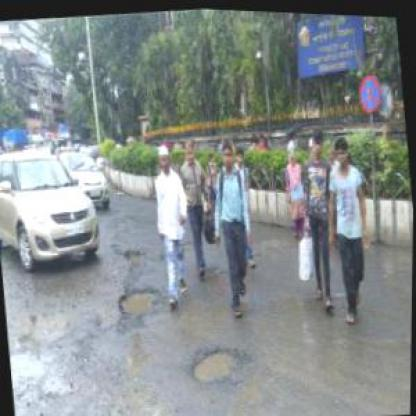pothole: (115, 280, 165, 322), (187, 340, 237, 382), (122, 242, 144, 263)
